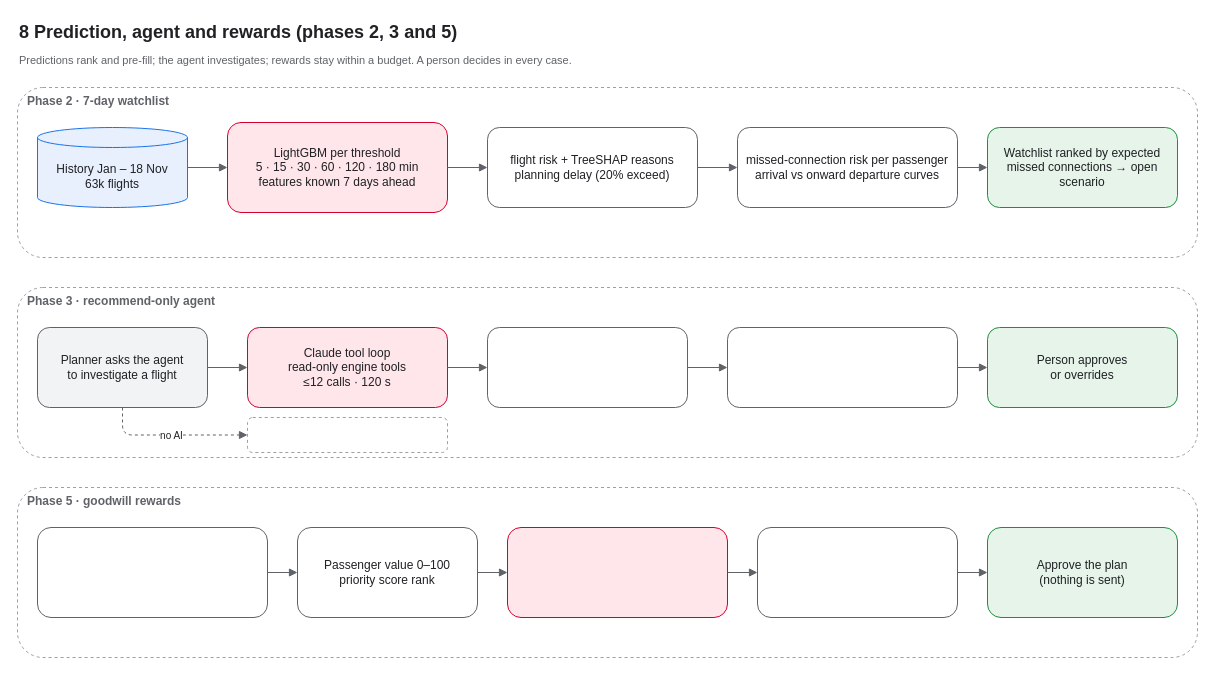
The diagram is 1215 pixels wide and 675 high, and some of its shapes have lost their labels. The centre of each missing label's shape, as x and y in pixels:
Acceptance P(accept) LightGBM on simulated history (proxy rules fallback): point 617,572
Choose type and amount fit the budget (AED): point 857,572
Live trace of steps (saved as an agent run): point 587,367
Planner fallback (no AI or error): point 347,434
Recommended option = an engine option, saved as a scenario: point 842,367
Severity 0–100 delay · cancellation · missed connection · wait · vulnerable: point 152,572
